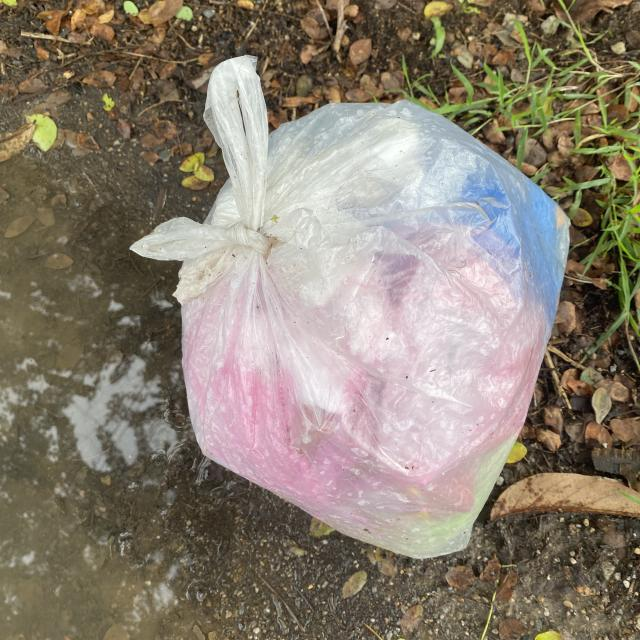Single-layer Plastic: (131, 56, 569, 558)
